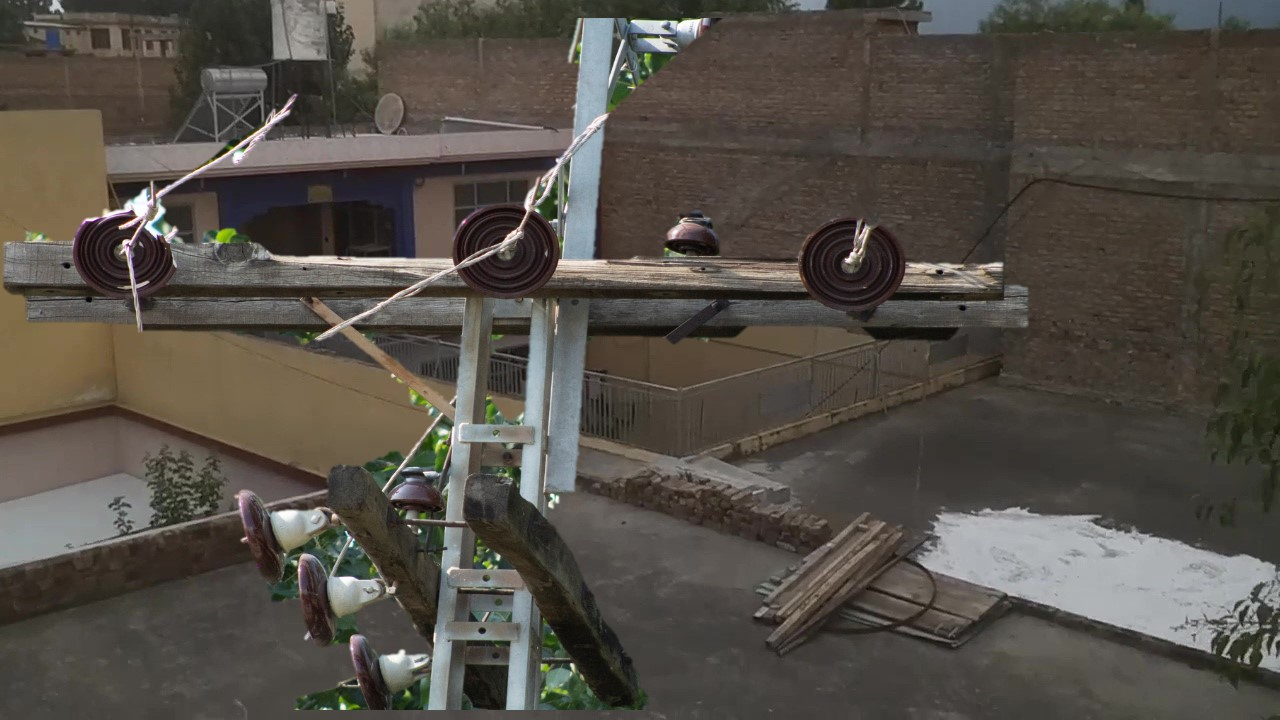insulator_disc: (450, 195, 567, 306), (797, 216, 914, 322), (230, 484, 296, 594), (339, 633, 423, 716), (288, 549, 348, 652)
insulator_pin: (382, 456, 445, 524), (660, 205, 726, 265)
